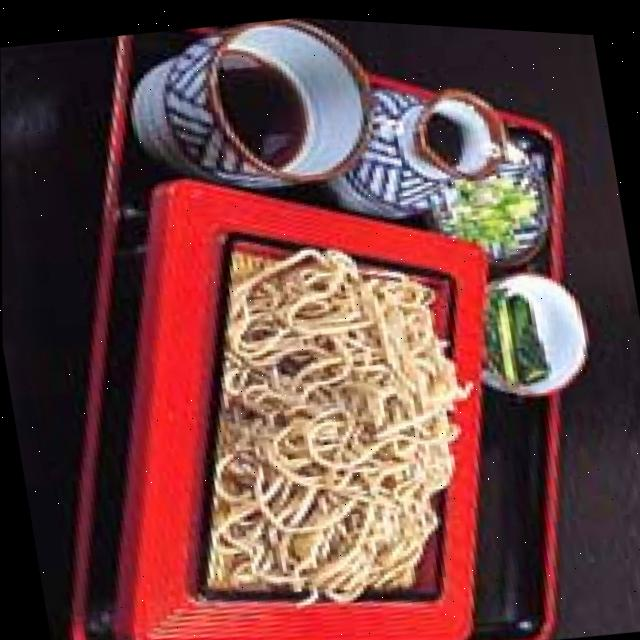面条主食: (18, 136, 552, 640)
